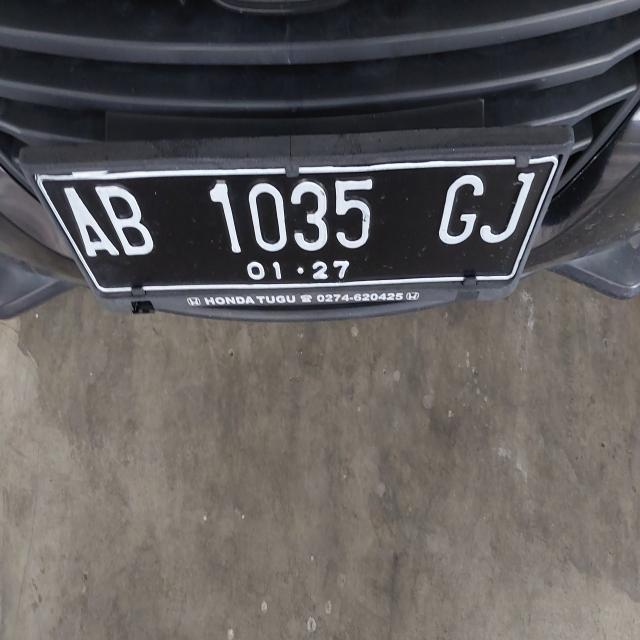0: (243, 177, 290, 256)
1: (206, 174, 243, 258)
3: (286, 164, 334, 263)
5: (330, 168, 380, 268)
A: (53, 168, 124, 279)
B: (92, 174, 165, 266)
G: (438, 154, 486, 260)
J: (478, 152, 534, 266)
